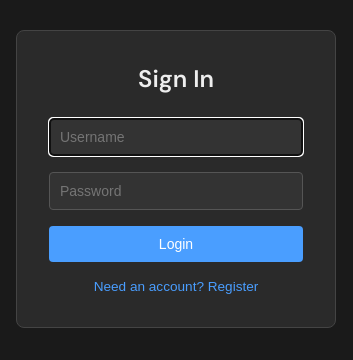
Test: LoginPage › displays error on login failure
The image size is (353, 360).
In the field with placeholder "Username": (176, 137) [49,118,303,156], type "testuser"
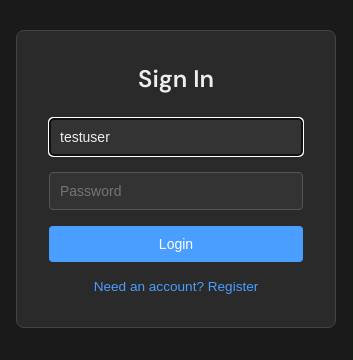
In the password field with placeholder "Password": (176, 191) [49,172,303,210], type "wrongpass"
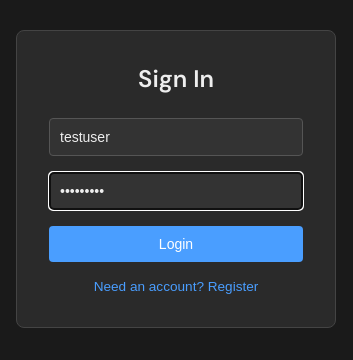
Click the button "Login": (176, 244) [49,226,303,262]
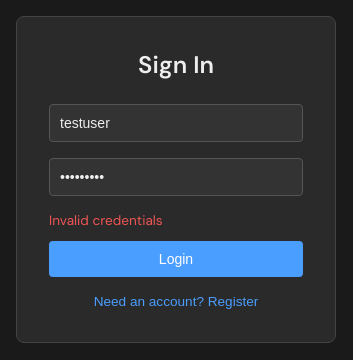
Check: the text "Invalid credentials" is shown, box [49,212,163,228]
